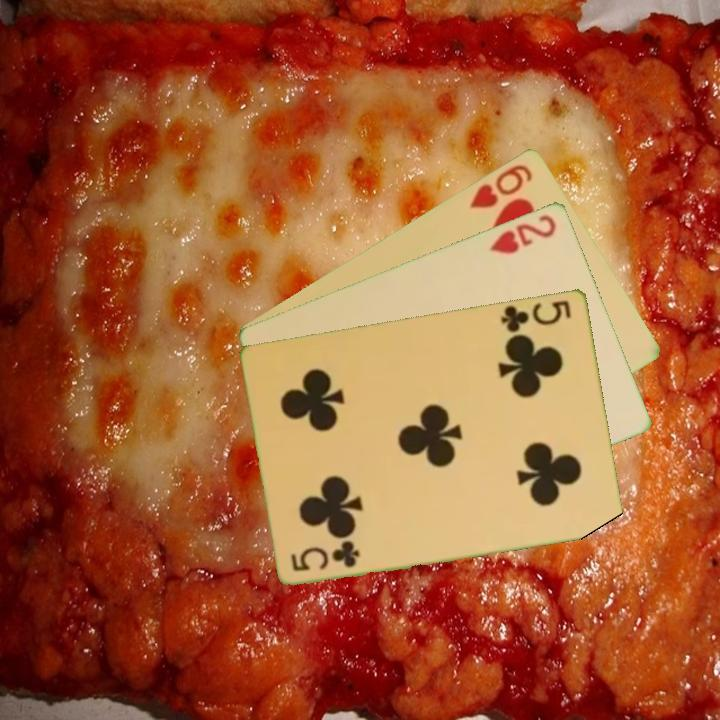2h: (485, 210, 560, 257)
5c: (497, 296, 574, 335), (287, 538, 363, 574)
6h: (466, 160, 536, 211)
